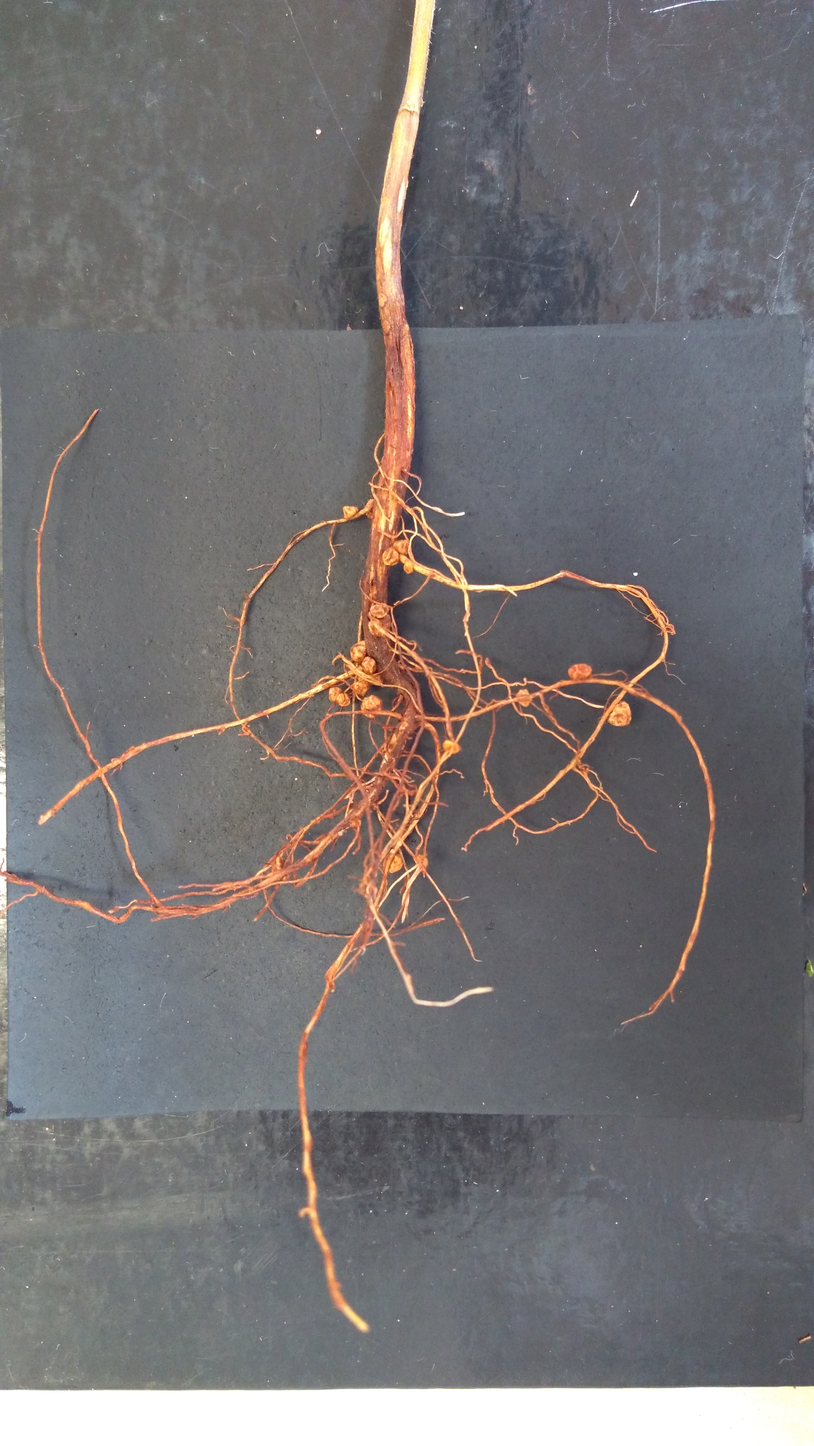nodule: (606, 700, 633, 728), (360, 694, 383, 721), (566, 662, 594, 681), (367, 619, 394, 638), (349, 638, 367, 665), (382, 853, 404, 874), (514, 688, 533, 708), (382, 546, 400, 567), (360, 655, 378, 675), (369, 602, 390, 619), (442, 739, 462, 755), (393, 539, 411, 556), (342, 505, 360, 520), (350, 681, 368, 696), (413, 854, 429, 869), (328, 686, 343, 702), (335, 693, 351, 706), (402, 561, 414, 575)
